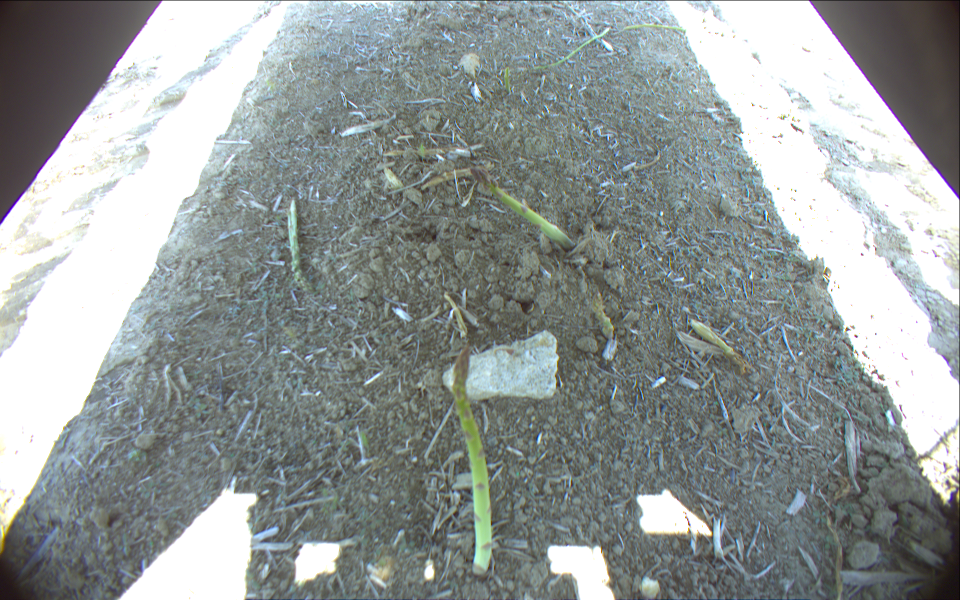aspa: (452, 342, 493, 574), (468, 169, 576, 248), (530, 26, 611, 72), (689, 319, 752, 372), (286, 200, 313, 290), (617, 22, 721, 34), (591, 292, 614, 340), (504, 68, 510, 92)
